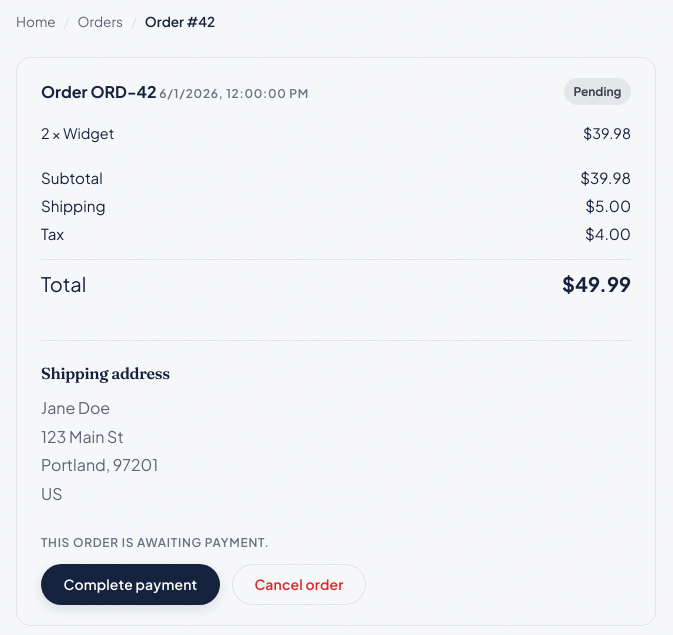
Test: OrderDetailPage › shows Redirecting… while paying
Expected: the text "Order ORD-42" is shown, 41,80 -> 156,102
Click the button "Complete payment".
click(130, 585)  # box 41,564 -> 220,605
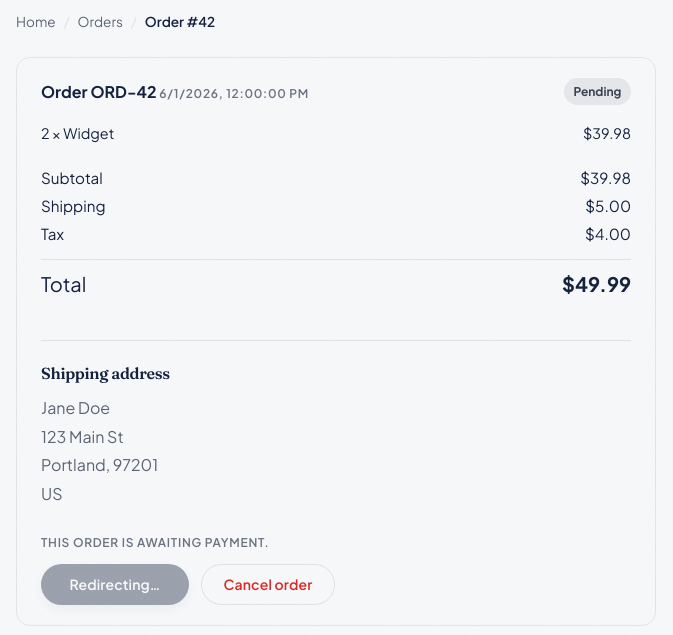
Result: the button "Redirecting…" is shown at 41,564 -> 189,605
